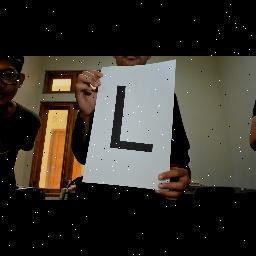l: (102, 80, 166, 168)
